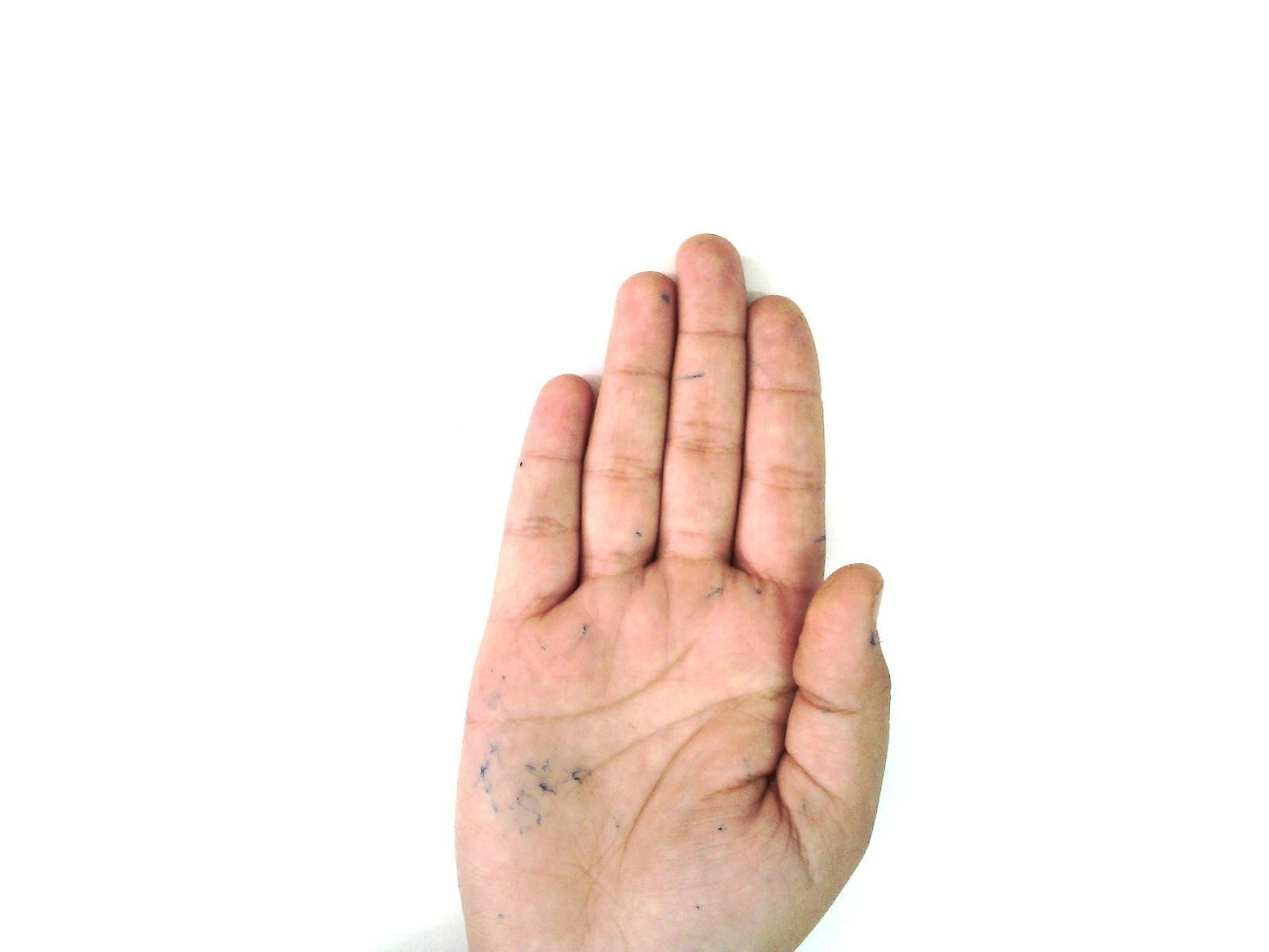open_palm: (450, 232, 895, 951)
